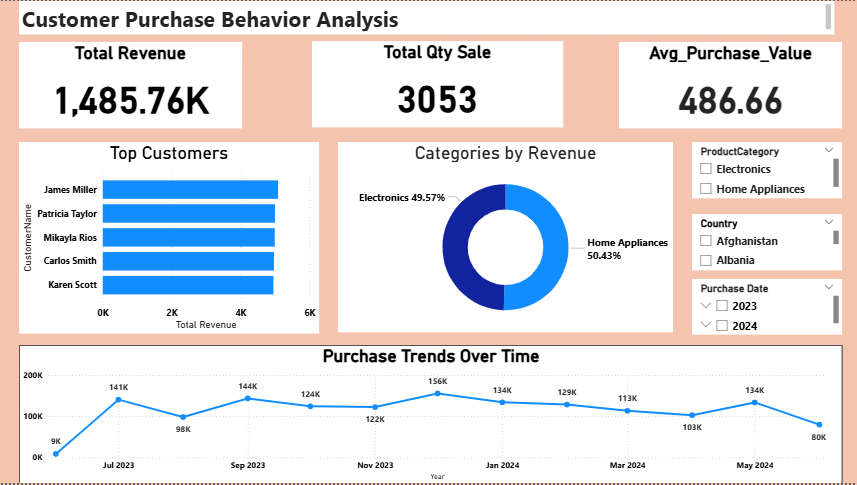

The page's visual inventory and layout, read from the dashboard file:
{"tool":"powerbi","page":{"name":"Data Visualization","canvas":[1280,720],"ordinal":0},"visuals":[{"type":"card","title":"Total Revenue","fields":{"Values":["customer_purchase_data.Total Revenue"]},"box":[30,61.4,332.9,128.6],"z":0},{"type":"card","title":"Total Qty Sale","fields":{"Values":["customer_purchase_data.Total_Purchases"]},"box":[466.7,60.3,374.6,128.6],"z":1000},{"type":"card","title":"Avg_Purchase_Value","fields":{"Values":["customer_purchase_data.Avg_purchase_value"]},"box":[925.4,61.9,333.3,128.6],"z":2000},{"type":"lineChart","title":"Purchase Trends Over Time","fields":{"Y":["customer_purchase_data.Total Revenue"],"Category":["customer_purchase_data.PurchaseDate.Variation.Date Hierarchy.Year","customer_purchase_data.PurchaseDate.Variation.Date Hierarchy.Month"]},"box":[30.2,512.7,1228.6,207.9],"z":3000},{"type":"clusteredBarChart","title":"Top Customers","fields":{"Y":["customer_purchase_data.Total Revenue"],"Category":["customer_purchase_data.CustomerName"]},"box":[30.2,211.1,447.6,285.7],"z":3001},{"type":"donutChart","title":"Categories by Revenue ","fields":{"Category":["customer_purchase_data.ProductCategory"],"Y":["customer_purchase_data.Total Revenue"]},"box":[506.3,211.1,500,284.1],"z":3002},{"type":"textbox","box":[30,0,1216.7,50],"z":3003},{"type":"slicer","fields":{"Values":["customer_purchase_data.ProductCategory"]},"box":[1034.9,211.1,223.8,84.1],"z":3004},{"type":"slicer","fields":{"Values":["customer_purchase_data.PurchaseDate.Variation.Date Hierarchy.Year","customer_purchase_data.PurchaseDate.Variation.Date Hierarchy.Quarter","customer_purchase_data.PurchaseDate.Variation.Date Hierarchy.Month","customer_purchase_data.PurchaseDate.Variation.Date Hierarchy.Day"]},"box":[1034.9,414.3,223.8,82.5],"z":3005},{"type":"slicer","fields":{"Values":["customer_purchase_data.Country"]},"box":[1034.9,317.5,223.8,84.1],"z":3006}]}

Visuals, with their boxes in screenshot pixels (x1, y1, x2, y2), scaled from the page's 1280x720 canvas onto the 857x485 screenshot:
"Total Revenue" card: 20 41 243 128
"Total Qty Sale" card: 312 41 563 127
"Avg_Purchase_Value" card: 620 42 843 128
"Purchase Trends Over Time" lineChart: 20 345 843 484
"Top Customers" clusteredBarChart: 20 142 320 335
"Categories by Revenue " donutChart: 339 142 674 334
textbox: 20 0 835 34
slicer - customer_purchase_data.ProductCategory: 693 142 843 199
slicer - customer_purchase_data.PurchaseDate.Variation.Date Hierarchy.Year x customer_purchase_data.PurchaseDate.Variation.Date Hierarchy.Quarter: 693 279 843 335
slicer - customer_purchase_data.Country: 693 214 843 271
